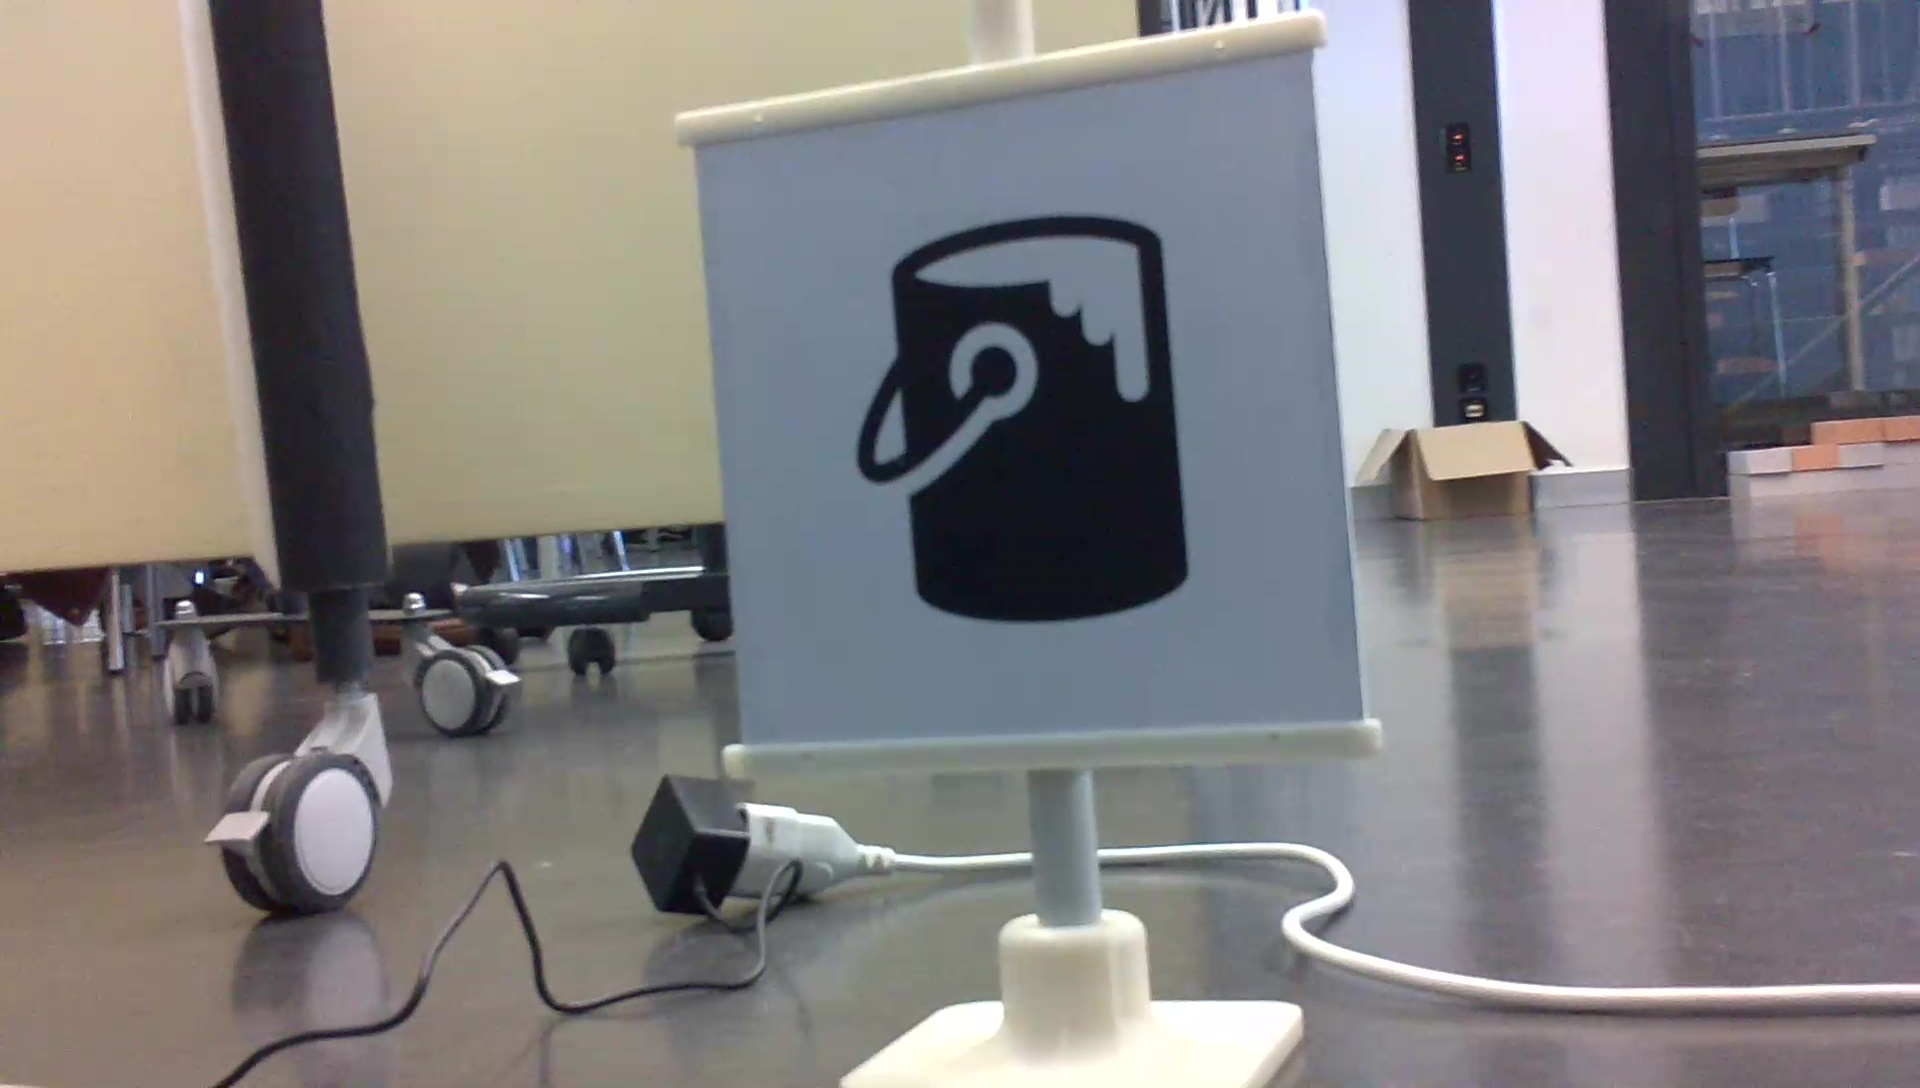bucket: (851, 203, 1195, 630)
